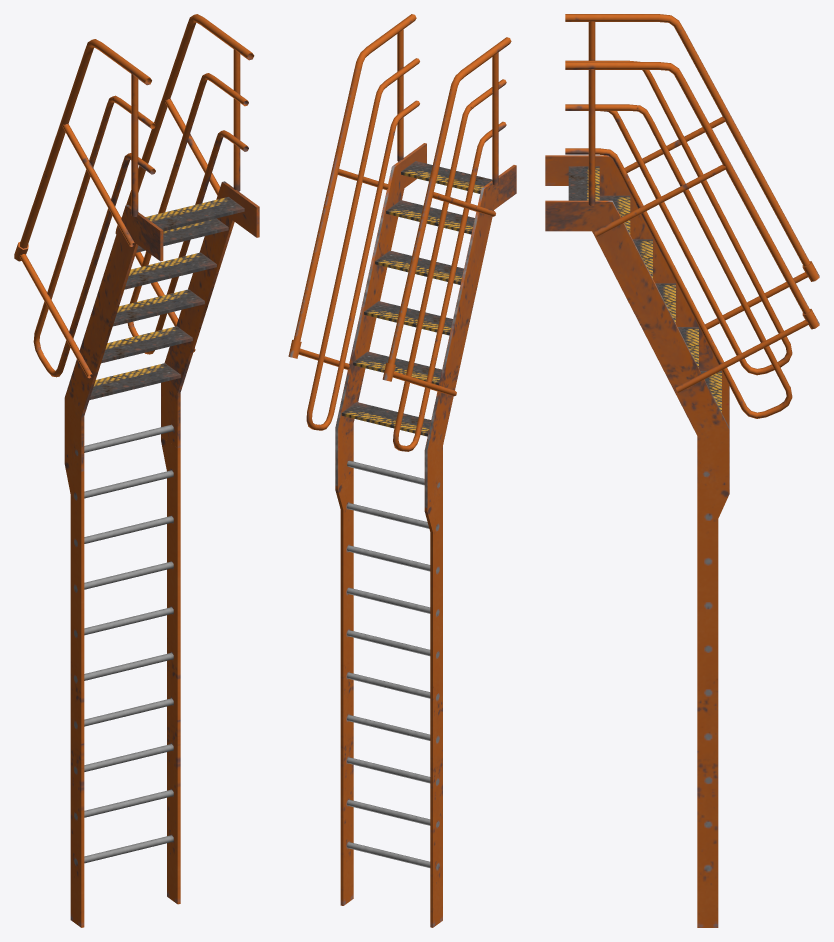
File: SpecificLadder_02.fbx
3 renders of one model, left to right at view 1: azimuth 30°, elevation 25°; view 2: azimuth 150°, elevation 25°; view 3: azimuth 270°, elevation 25°, orthographic. The views are drawn at different scales.
Parts seen in each view (by area): view 1: Specific_Ladder_02_LOD0; view 2: Specific_Ladder_02_LOD0; view 3: Specific_Ladder_02_LOD0.
Part boxes in pixels (left/top/right/bottom): Specific_Ladder_02_LOD0: left=14, top=14, right=259, bottom=927; Specific_Ladder_02_LOD0: left=288, top=14, right=516, bottom=927; Specific_Ladder_02_LOD0: left=545, top=14, right=819, bottom=927.
Size of what is drawn, in the model's own units: 0.7686 by 5.92 by 1.7.
